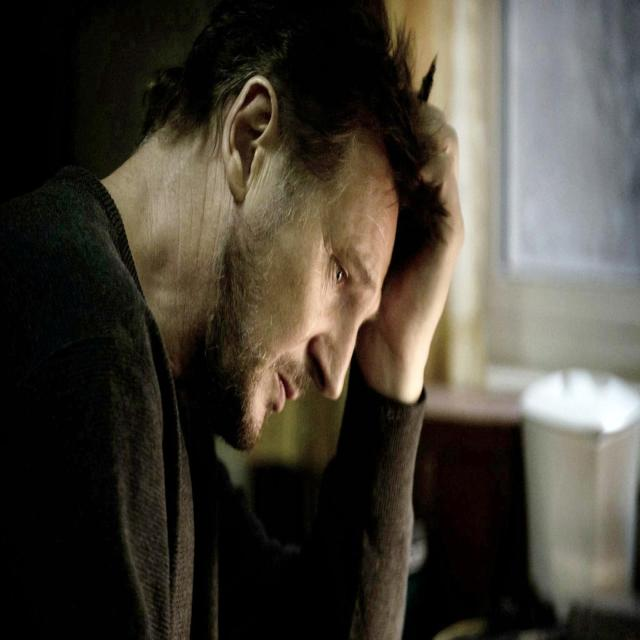no-earmuff: (212, 57, 288, 219)
